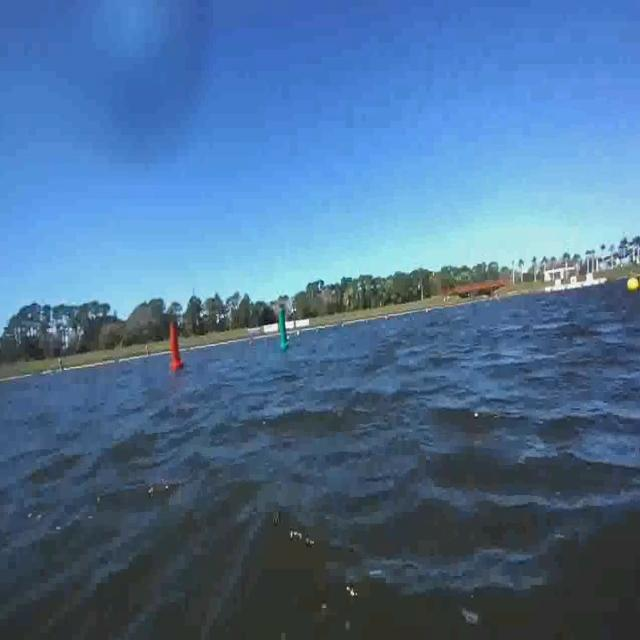green-column-buoy: (274, 291, 296, 352)
red-column-buoy: (164, 304, 188, 374)
